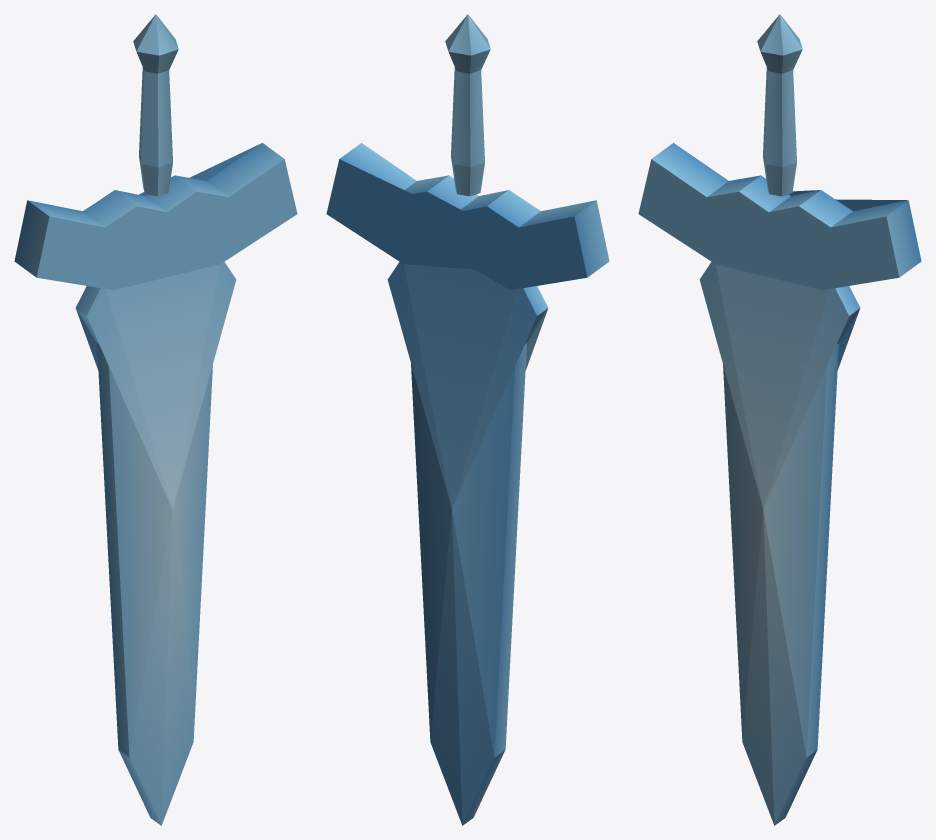
Rendered from Chongyun_IceBladeFollowup_SingleTarget_SpiritSwordBody.fbx.
3 renders of one model, left to right at view 1: azimuth 30°, elevation 25°; view 2: azimuth 150°, elevation 25°; view 3: azimuth 330°, elevation 25°, orthographic.
Parts seen in each view (by area): view 1: PART_AuthoredFacetedLongSpiritBlade, PART_SpiritSwordAngularIceGuard, PART_SpiritSwordCrystallineGrip; view 2: PART_AuthoredFacetedLongSpiritBlade, PART_SpiritSwordAngularIceGuard, PART_SpiritSwordCrystallineGrip; view 3: PART_AuthoredFacetedLongSpiritBlade, PART_SpiritSwordAngularIceGuard, PART_SpiritSwordCrystallineGrip.
Part boxes in pixels (bbox=[...]): PART_AuthoredFacetedLongSpiritBlade: bbox=[75, 262, 236, 825]; PART_SpiritSwordAngularIceGuard: bbox=[14, 143, 297, 290]; PART_SpiritSwordCrystallineGrip: bbox=[133, 14, 178, 196]; PART_AuthoredFacetedLongSpiritBlade: bbox=[387, 262, 548, 825]; PART_SpiritSwordAngularIceGuard: bbox=[326, 143, 609, 290]; PART_SpiritSwordCrystallineGrip: bbox=[445, 14, 490, 196]; PART_AuthoredFacetedLongSpiritBlade: bbox=[699, 262, 860, 825]; PART_SpiritSwordAngularIceGuard: bbox=[638, 143, 921, 290]; PART_SpiritSwordCrystallineGrip: bbox=[757, 14, 802, 196].
Size of the model in its own units: 122 by 361 by 26.5.
